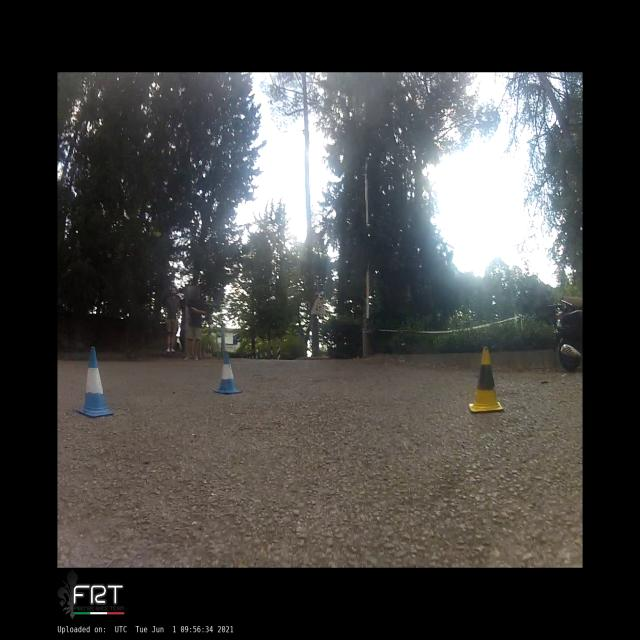blue_cone: (74, 346, 114, 418), (214, 351, 244, 395)
yellow_cone: (468, 346, 503, 412)
